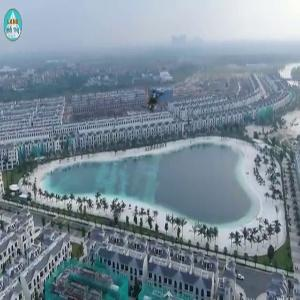drone: (124, 71, 188, 135)
